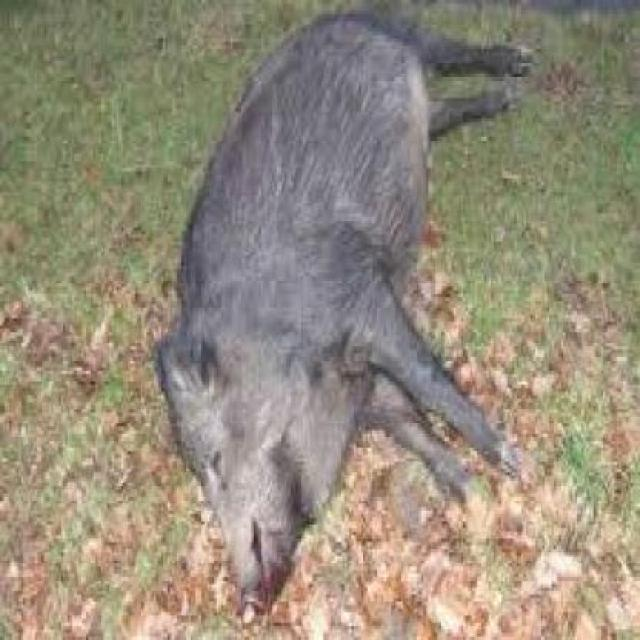wildboar: (148, 5, 543, 628)
